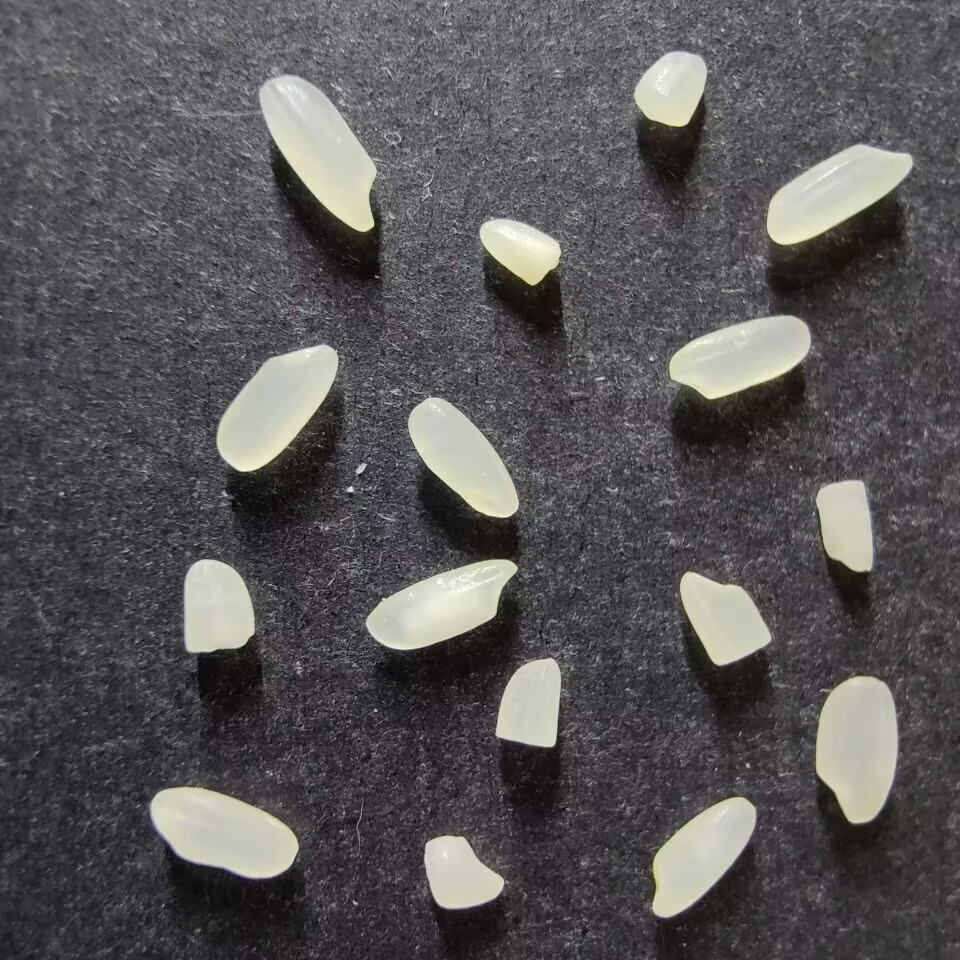broken: (678, 571, 771, 665), (182, 559, 255, 653), (494, 658, 561, 748), (423, 835, 504, 909), (478, 218, 561, 285), (633, 51, 706, 126), (815, 480, 873, 572)
rice: (258, 76, 375, 232), (215, 344, 338, 472), (766, 144, 913, 245), (365, 558, 517, 650), (149, 786, 298, 879), (407, 397, 519, 518), (651, 796, 756, 918), (814, 676, 898, 823), (668, 315, 810, 399)
